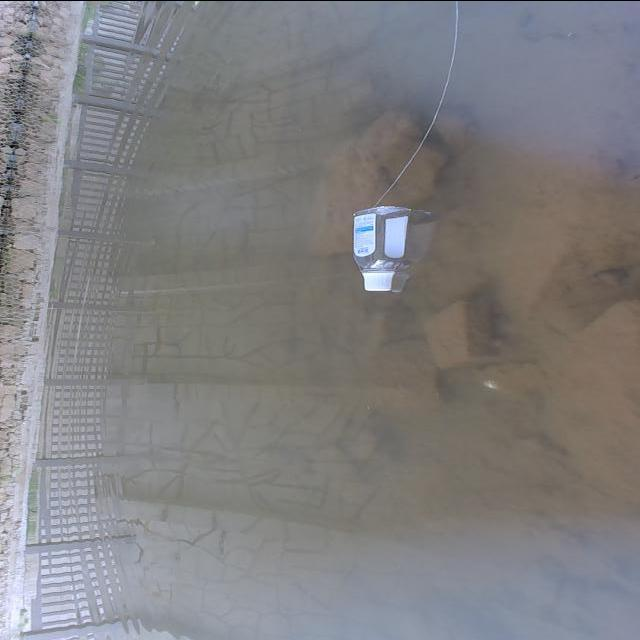Bottle: (350, 201, 416, 293)
